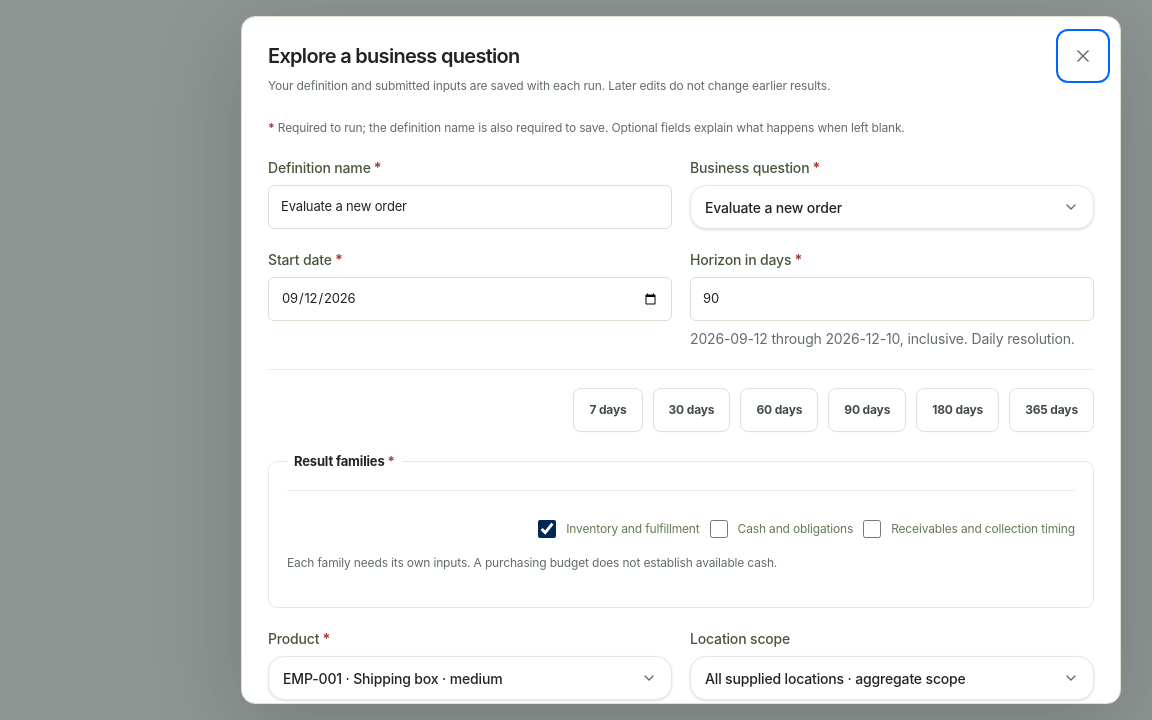
an explicitly selected shared pool records its identity and shows only its declared location contributions
Replace the text in the dropdown named "Location scope" with "pool:pool-mty" at x=892, y=678, box top-left (690, 656), bottom-right (1094, 700)
(page scrolled)
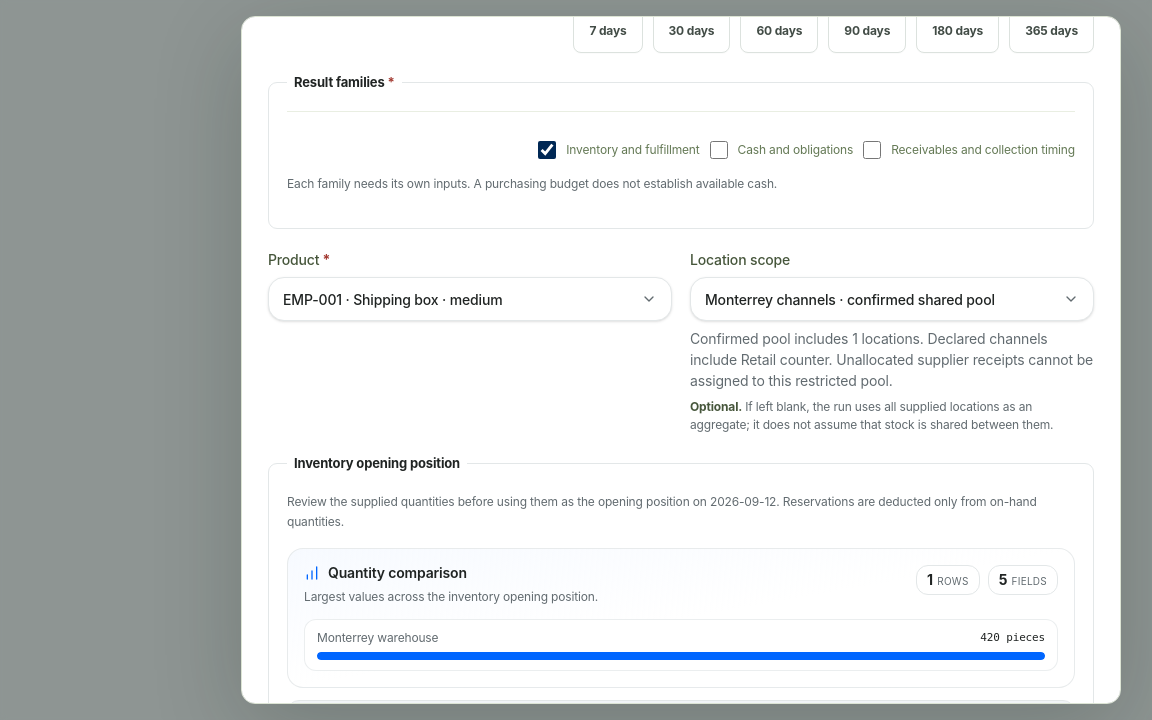
Check: the text "Declared channels include Retail counter" is shown, box top-left (690, 330), bottom-right (1093, 389)
